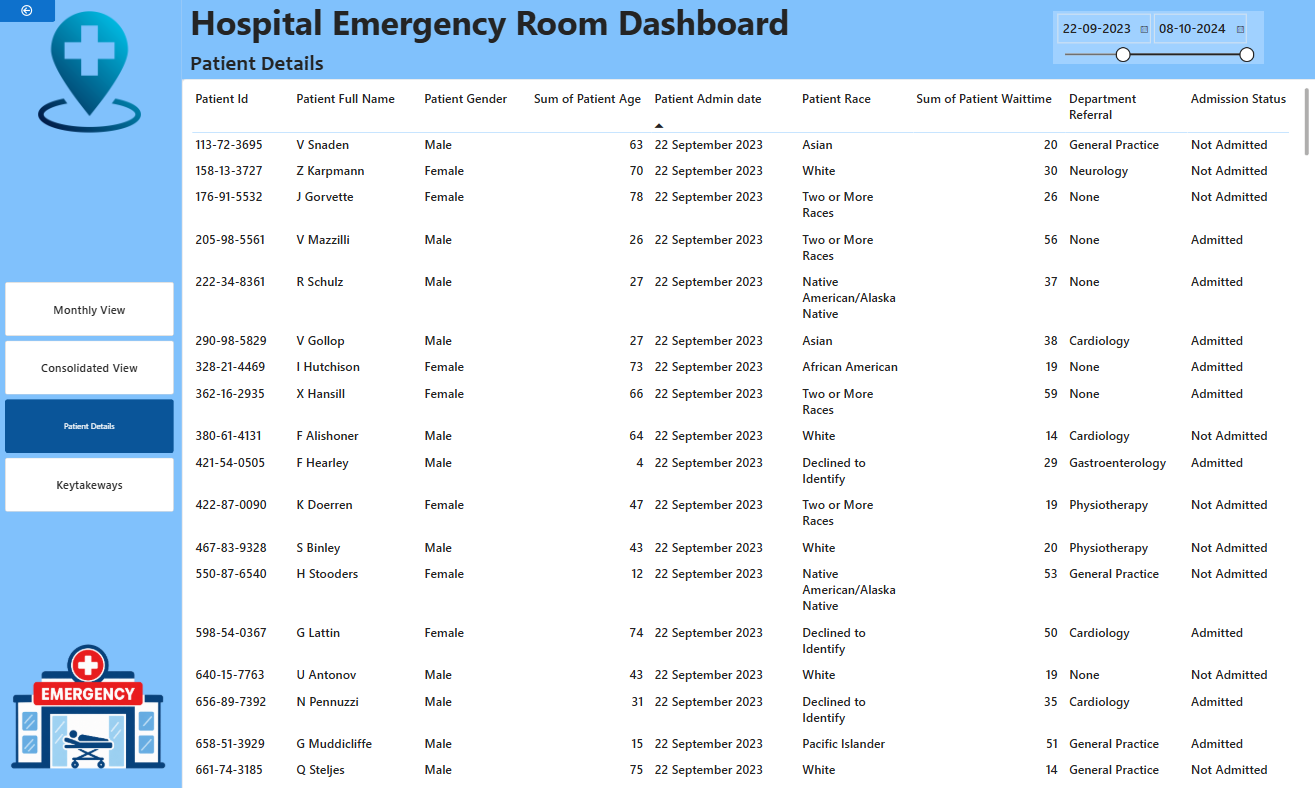

The page's visual inventory and layout, read from the dashboard file:
{"tool":"powerbi","page":{"name":"Patient Details","canvas":[2300,1400],"ordinal":2},"visuals":[{"type":"shape","box":[0,0,320.4,1400],"z":0},{"type":"shape","box":[319.8,0,1980.2,140],"z":1000},{"type":"textbox","box":[333.8,0,1101.1,87.4],"z":2000},{"type":"textbox","box":[334.3,87.1,256,47],"z":3000},{"type":"slicer","fields":{"Values":["Date Table.Date"]},"box":[1837.1,20.9,365.7,90.5],"z":4000},{"type":"image","box":[24.4,20.9,269.9,212.4],"z":5000},{"type":"tableEx","fields":{"Values":["Hospital ER_Data.Patient Id","Hospital ER_Data.Patient Full Name","Hospital ER_Data.Patient Gender","Sum(Hospital ER_Data.Patient Age)","Hospital ER_Data.Patient Admin date","Hospital ER_Data.Patient Race","Sum(Hospital ER_Data.Patient Waittime)","Hospital ER_Data.Department Referral","Hospital ER_Data.Admission Status"]},"box":[320,140,1980,1260],"z":6000},{"type":"actionButton","box":[0,0,100,40],"z":7000},{"type":"pageNavigator","box":[12.2,369.2,294.3,294.3],"z":8000},{"type":"image","box":[7,1086.6,300,300],"z":8001}]}

Visuals, with their boxes on the page's 2300x1400 design canvas (x1, y1, x2, y2). These are canvas units, not pixel positions in the 1315x788 screenshot, which may show the page scaled, cropped or inside an application window:
shape: (0,0,320,1400)
shape: (320,0,2300,140)
textbox: (334,0,1435,87)
textbox: (334,87,590,134)
slicer - Date Table.Date: (1837,21,2203,111)
image: (24,21,294,233)
tableEx - Hospital ER_Data.Patient Id x Hospital ER_Data.Patient Full Name: (320,140,2300,1400)
actionButton: (0,0,100,40)
pageNavigator: (12,369,306,664)
image: (7,1087,307,1387)
